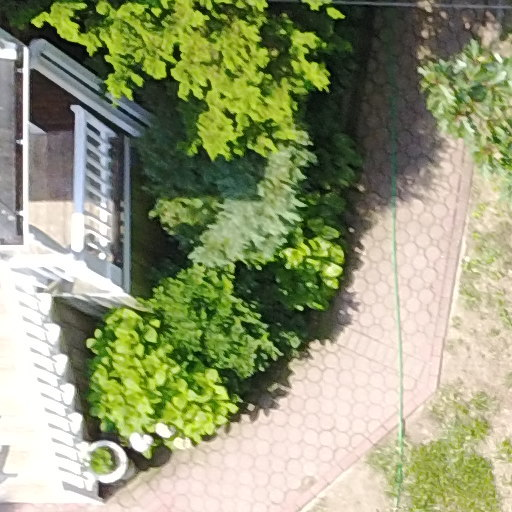flower pot: (74, 428, 141, 494)
porch: (1, 76, 165, 512)
